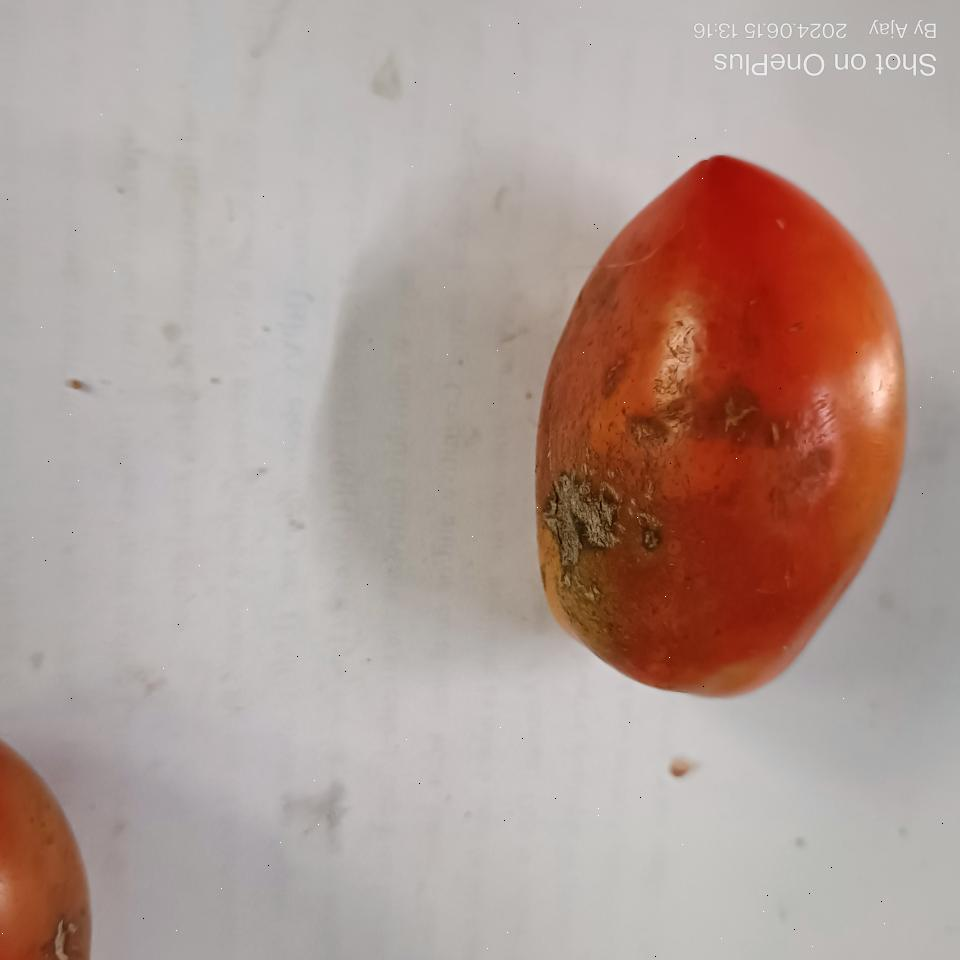Bacterial_Spot: (542, 474, 661, 613), (628, 390, 791, 460)
